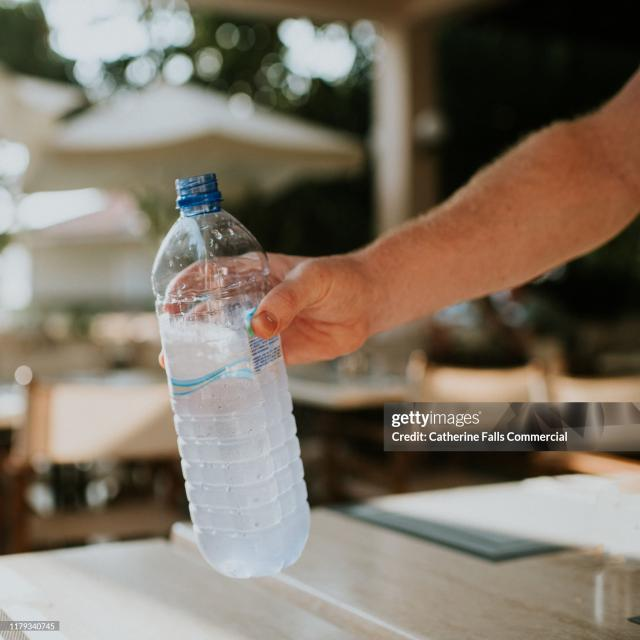bottle: (146, 172, 308, 586)
